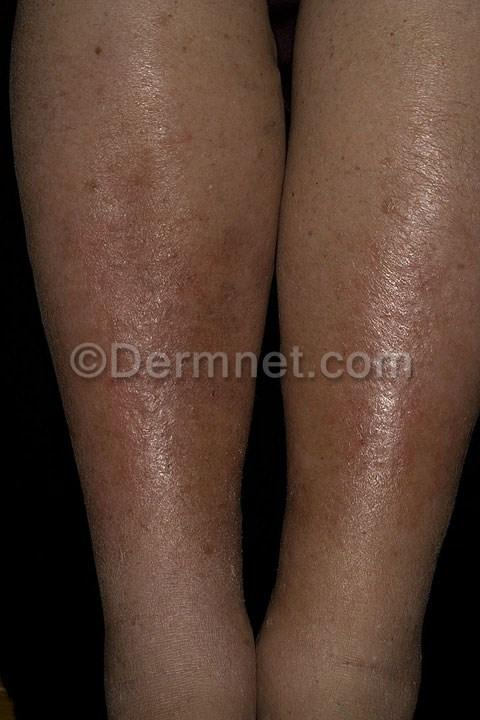Eczema: (43, 90, 277, 342), (299, 63, 480, 355), (298, 381, 445, 623), (77, 378, 238, 592)
